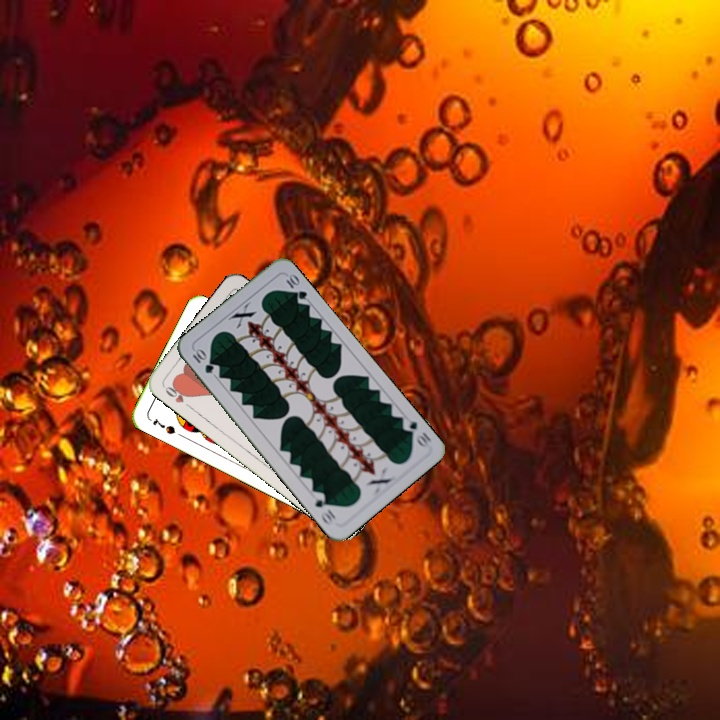G10: (398, 414, 434, 451), (188, 345, 216, 376)
HO: (160, 379, 195, 411)
S7: (149, 414, 178, 437)
